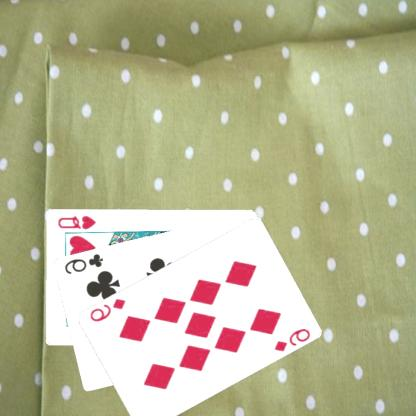6C: (63, 250, 106, 276)
9D: (272, 326, 313, 353), (88, 296, 128, 323)
QH: (56, 212, 98, 231)
